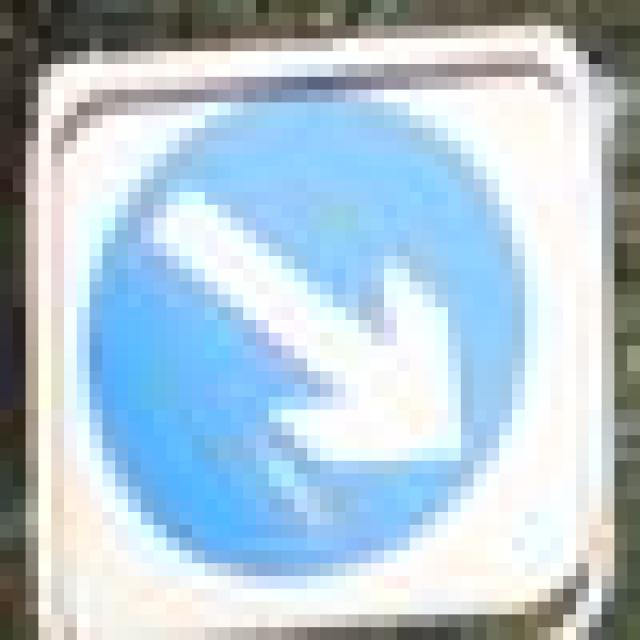compulsory_keep_left: (26, 51, 602, 627)
